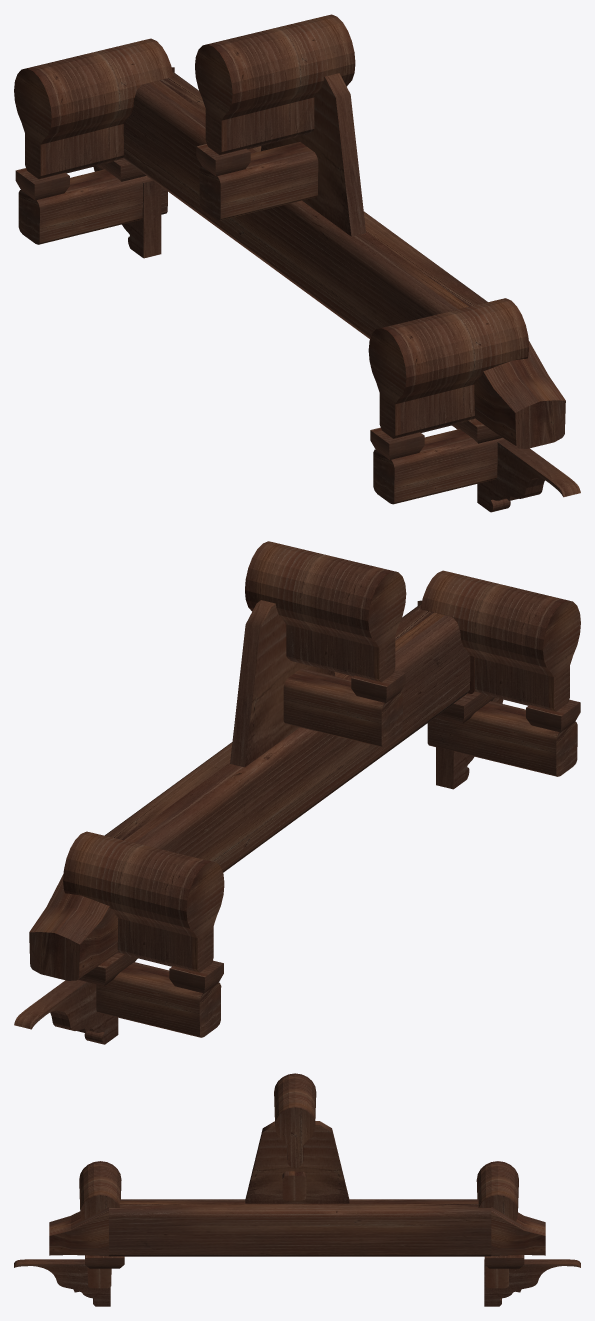
Rendered from SM_R_MiddleBeam_23.fbx.
3 views of the same model, one above another, from view 1: azimuth 30°, elevation 25°; view 2: azimuth 150°, elevation 25°; view 3: azimuth 270°, elevation 25° (orthographic). The views are drawn at different scales.
Parts seen in each view (by area): view 1: SM_R_MiddleBeam_23; view 2: SM_R_MiddleBeam_23; view 3: SM_R_MiddleBeam_23.
Boxes of the visible parts, box(x1,y1,x2,y2) form: SM_R_MiddleBeam_23: box(14, 14, 580, 512); SM_R_MiddleBeam_23: box(14, 541, 580, 1044); SM_R_MiddleBeam_23: box(14, 1073, 580, 1306).
Size of the model in its own units: 96.73 by 577 by 226.
2 materials, 2 textured.
